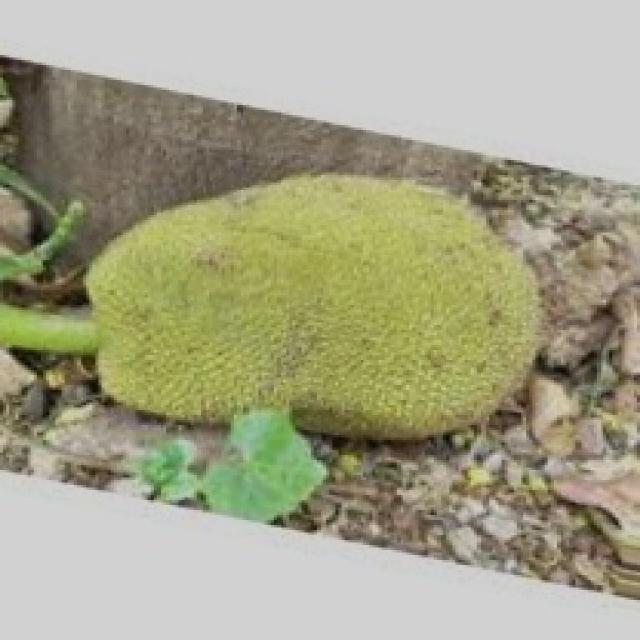Fruit: (228, 128, 584, 480)
